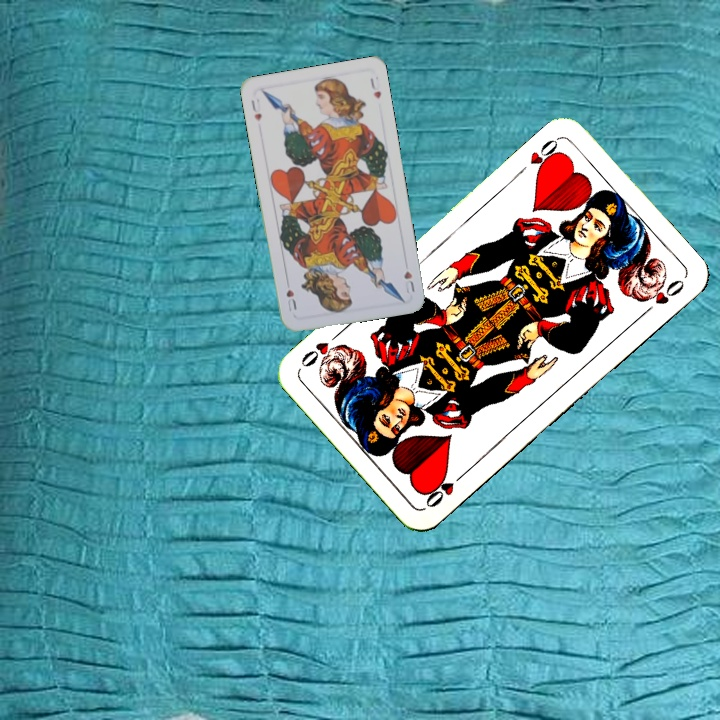HO: (420, 467, 469, 511), (526, 133, 564, 177)
HU: (247, 94, 264, 124), (400, 267, 417, 296)
